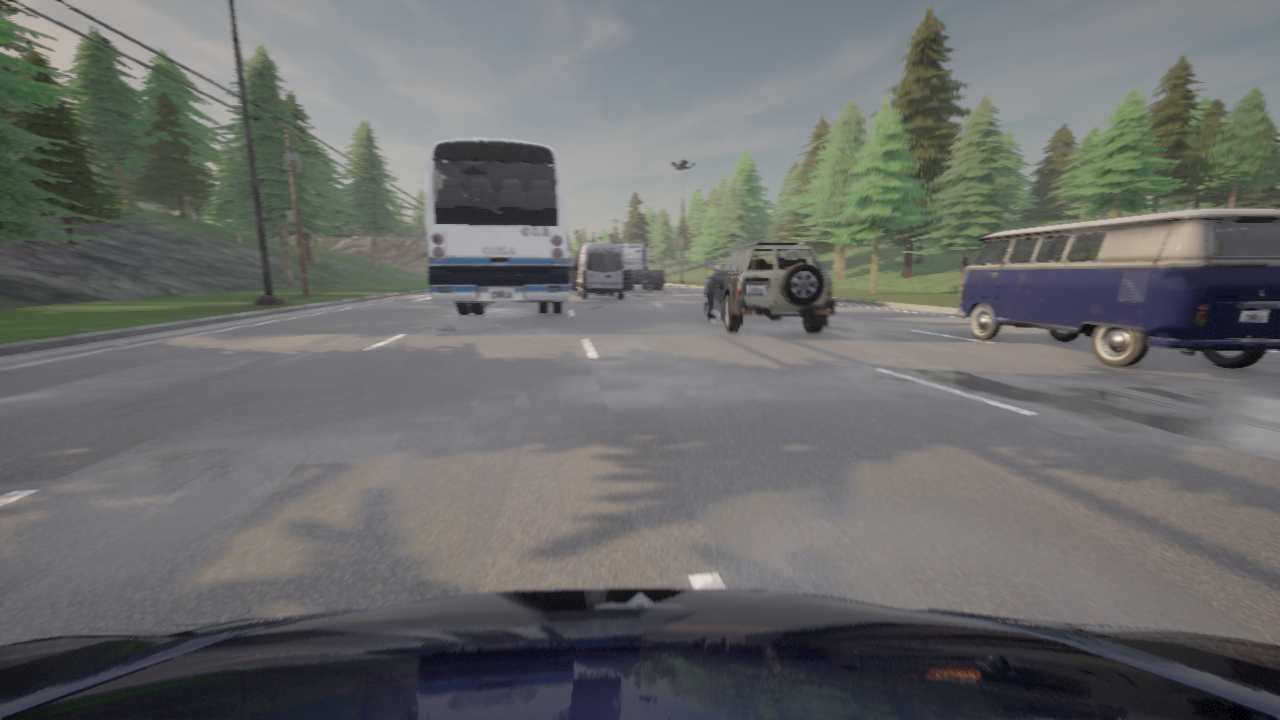cyclist: (0, 588, 1279, 719), (957, 208, 1279, 367), (425, 138, 569, 315), (704, 242, 835, 333), (574, 243, 625, 299), (620, 243, 664, 291), (569, 253, 579, 290)
